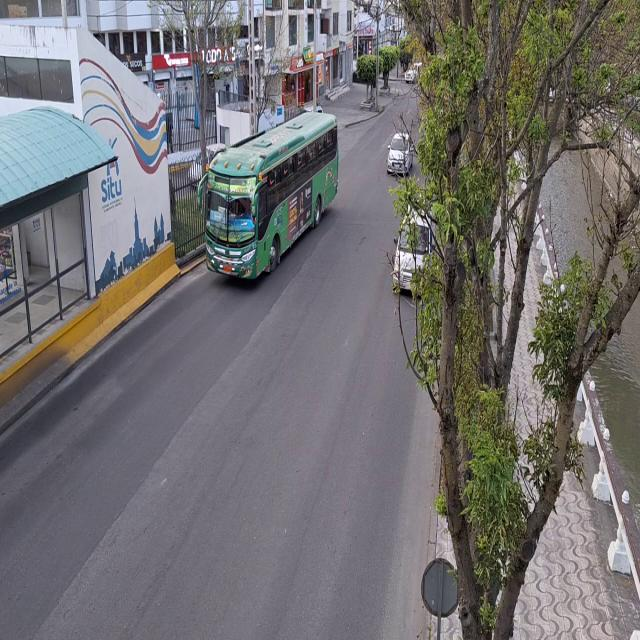BUS: (207, 123, 339, 290)
